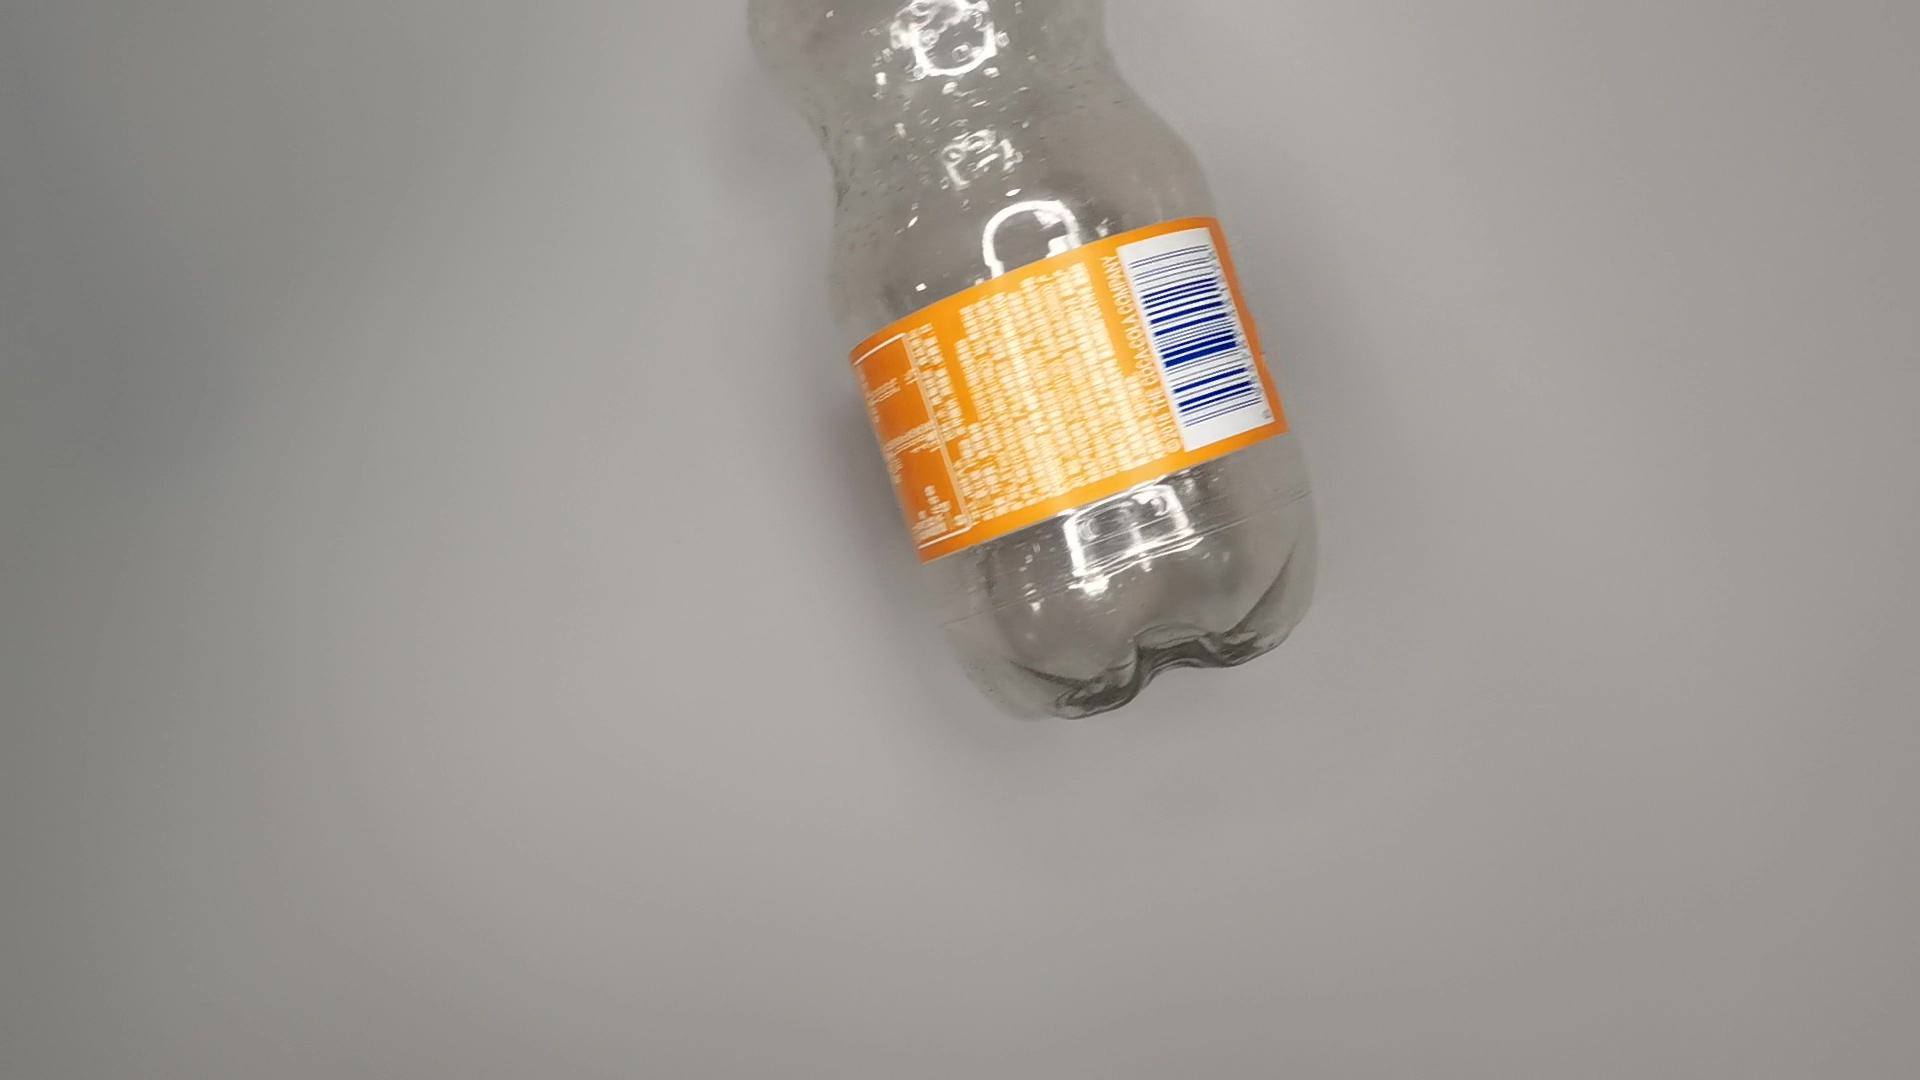bottle: (744, 1, 1319, 724)
